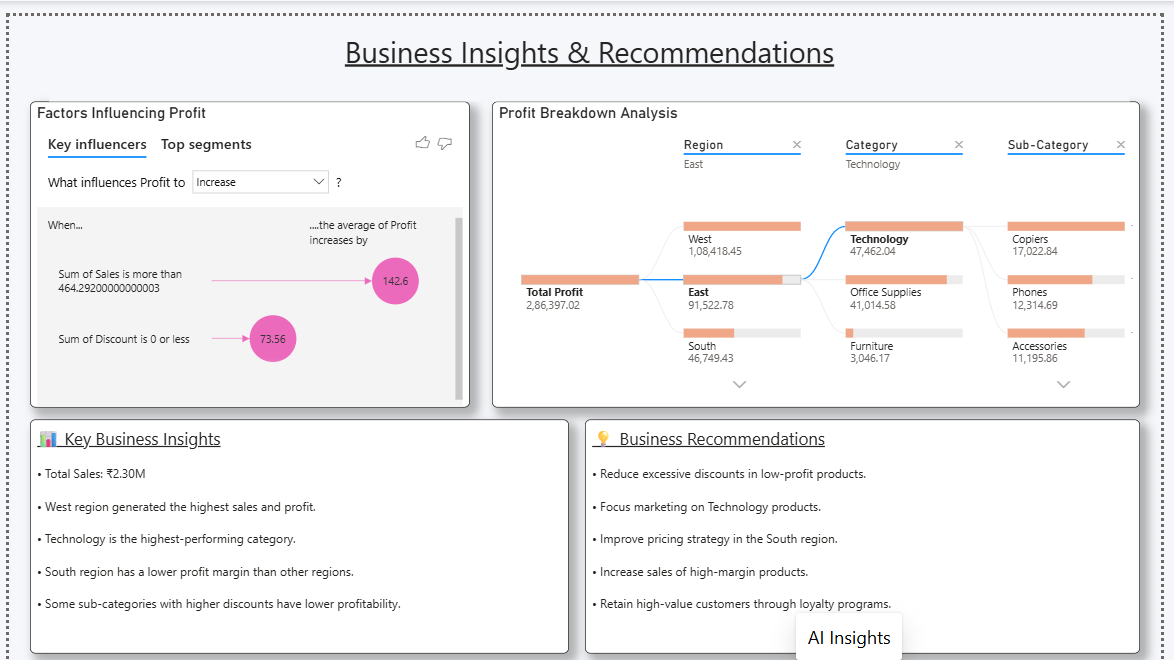

Layout of this report page (visuals, bound fields, positions):
{"tool":"powerbi","page":{"name":"AI Insights","canvas":[1280,720],"ordinal":3},"visuals":[{"type":"keyDriversVisual","title":"Factors Influencing Profit","fields":{"Target":["Orders.Profit"],"ExplainBy":["Orders.Region","Orders.Category","Orders.Sub-Category","Orders.Segment","Sum(Orders.Discount)","Sum(Orders.Quantity)","Sum(Orders.Sales)"]},"box":[23.3,95,488.3,340],"z":0},{"type":"decompositionTreeVisual","title":"Profit Breakdown Analysis","fields":{"Analyze":["Orders.Total Profit"],"ExplainBy":["Orders.Region","Orders.Category","Orders.Sub-Category","Orders.Segment","Orders.State"]},"box":[536.7,95,720,340],"z":1000},{"type":"textbox","box":[640,448.3,616.7,260],"z":2000},{"type":"textbox","box":[23.3,448.3,598.3,260],"z":3000},{"type":"textbox","box":[45,11.7,1200,83.3],"z":3001}]}

Visuals, with their boxes in screenshot pixels (x1, y1, x2, y2), scaled from the page's 1280x720 canvas onto the 1174x660 screenshot:
"Factors Influencing Profit" keyDriversVisual: 21:87:469:399
"Profit Breakdown Analysis" decompositionTreeVisual: 492:87:1153:399
textbox: 587:411:1153:649
textbox: 21:411:570:649
textbox: 41:11:1142:87
